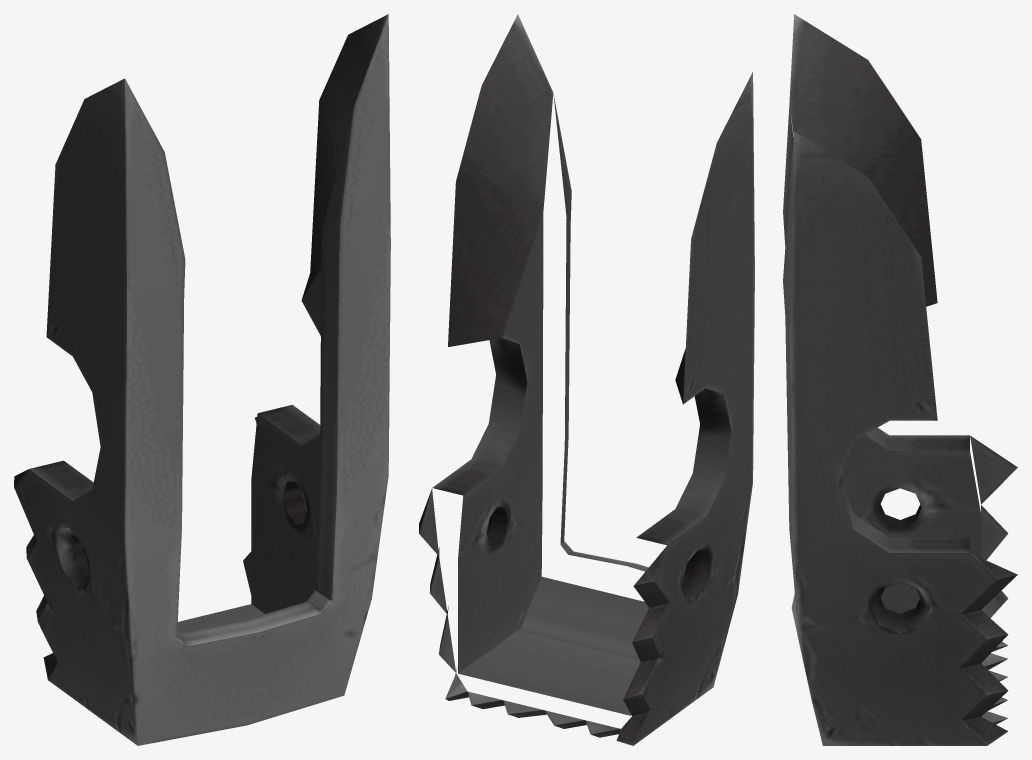
The model's file is part_cranium.glb.
3 renders of one model, left to right at view 1: azimuth 30°, elevation 25°; view 2: azimuth 150°, elevation 25°; view 3: azimuth 270°, elevation 25°, orthographic. The views are drawn at different scales.
Visible parts, largest first — view 1: twingun.part_cranium-Mesh[0]; view 2: twingun.part_cranium-Mesh[0]; view 3: twingun.part_cranium-Mesh[0].
Boxes of the visible parts, bbox=[...] form: twingun.part_cranium-Mesh[0]: bbox=[14, 14, 390, 745]; twingun.part_cranium-Mesh[0]: bbox=[419, 14, 754, 745]; twingun.part_cranium-Mesh[0]: bbox=[783, 14, 1017, 745].
Bounding box in the file's own units: 2.86 × 7.1 × 2.41.
1 material, 1 textured.
